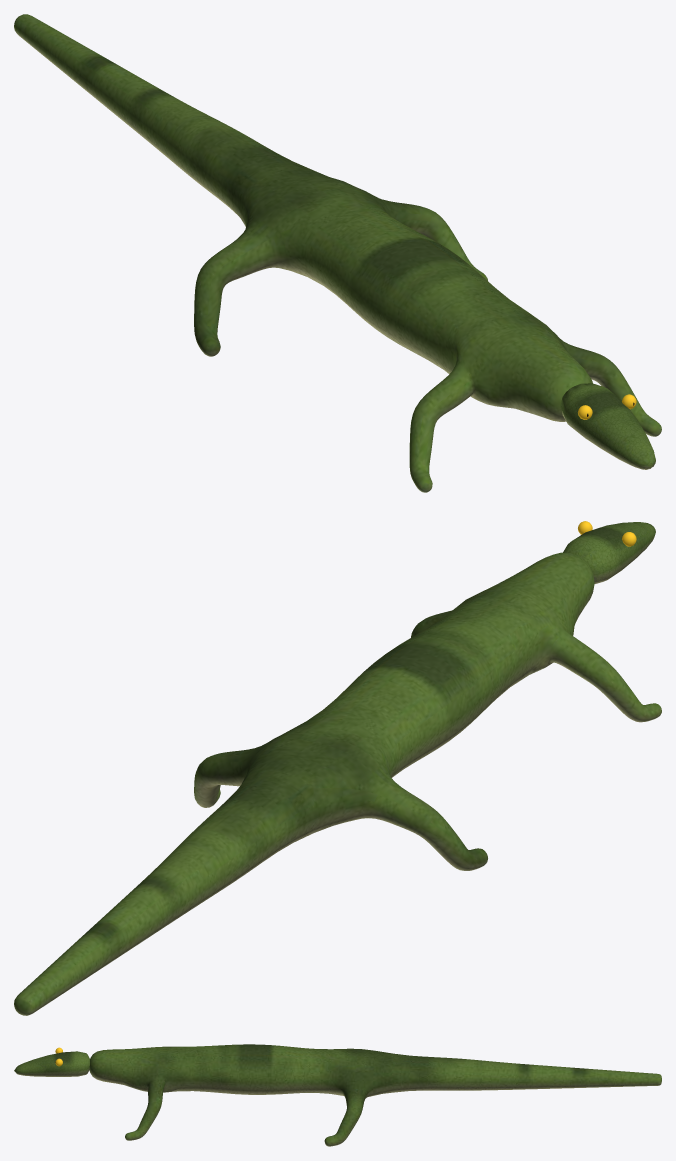
Rendered from lizard.glb.
The picture shows the model from 3 angles, top to bottom: view 1: azimuth 30°, elevation 25°; view 2: azimuth 150°, elevation 25°; view 3: azimuth 270°, elevation 25°; orthographic projection. The views are drawn at different scales.
Visible parts, largest first — view 1: lizard; view 2: lizard; view 3: lizard.
Part boxes in pixels (x1=…): lizard: x1=14, y1=14, x2=661, y2=492; lizard: x1=14, y1=521, x2=661, y2=1015; lizard: x1=14, y1=1044, x2=661, y2=1146.
Size of the model in its own units: 0.2199 by 0.0929 by 0.8434.
4 materials, 2 textured.
